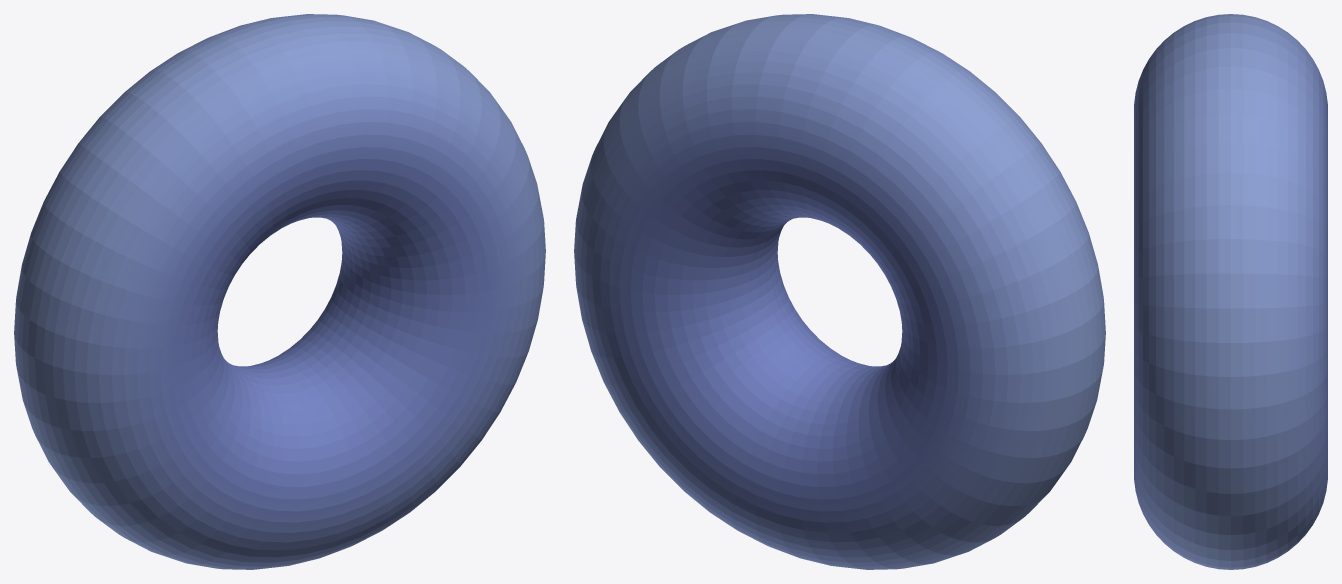
3 renders of one model, left to right at view 1: azimuth 30°, elevation 25°; view 2: azimuth 150°, elevation 25°; view 3: azimuth 270°, elevation 25°, orthographic. The views are drawn at different scales.
Visible parts, largest first — view 1: world; view 2: world; view 3: world.
Boxes of the visible parts, x1,y1,x2,y2 form: world: [14, 14, 545, 569]; world: [574, 14, 1105, 569]; world: [1134, 14, 1327, 569].
Bounding box in the file's own units: 16.4 × 16.37 × 5.72.
